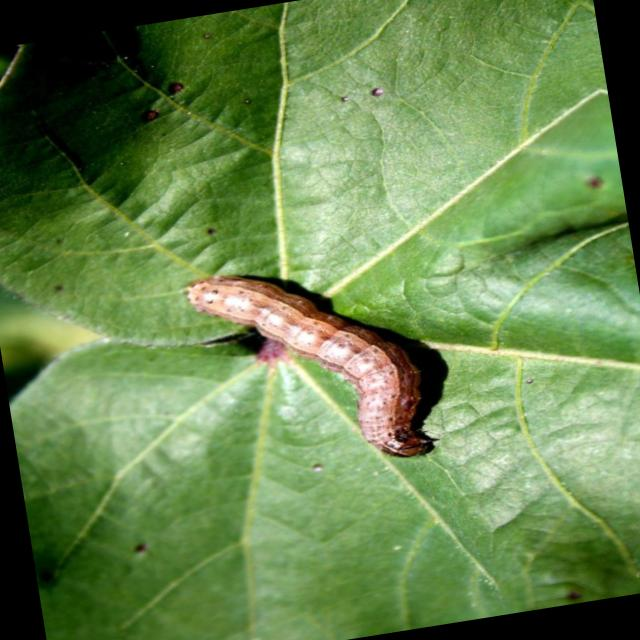Armyworm: (148, 217, 501, 525)
